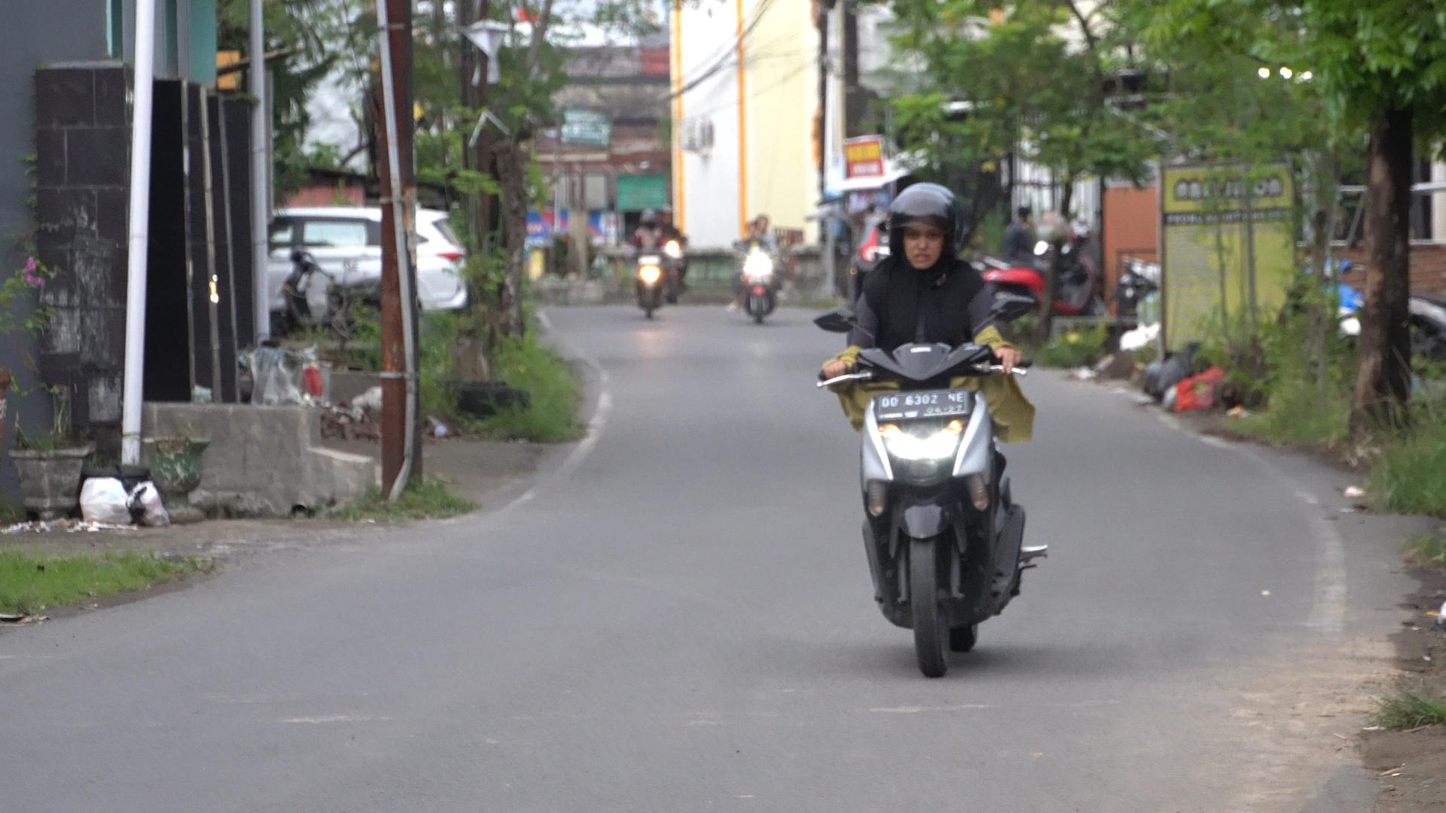number-plate: (869, 383, 971, 428)
